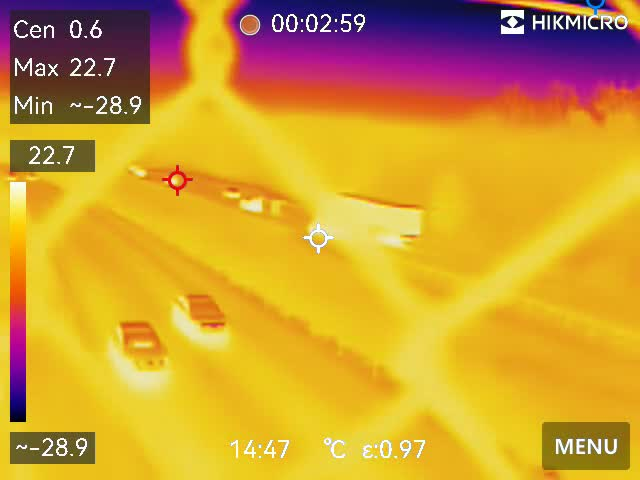heavyTruck: (317, 188, 426, 242)
vehicle: (109, 313, 180, 384), (182, 286, 234, 340)
